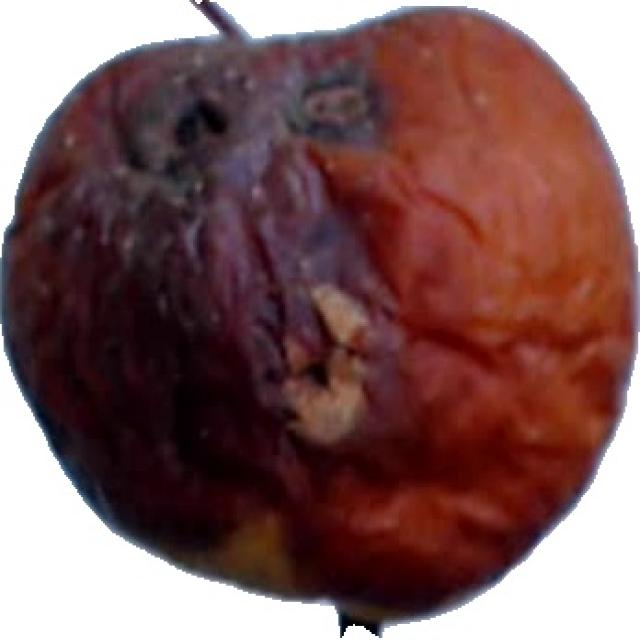Bozuk Elma: (0, 0, 638, 630)
